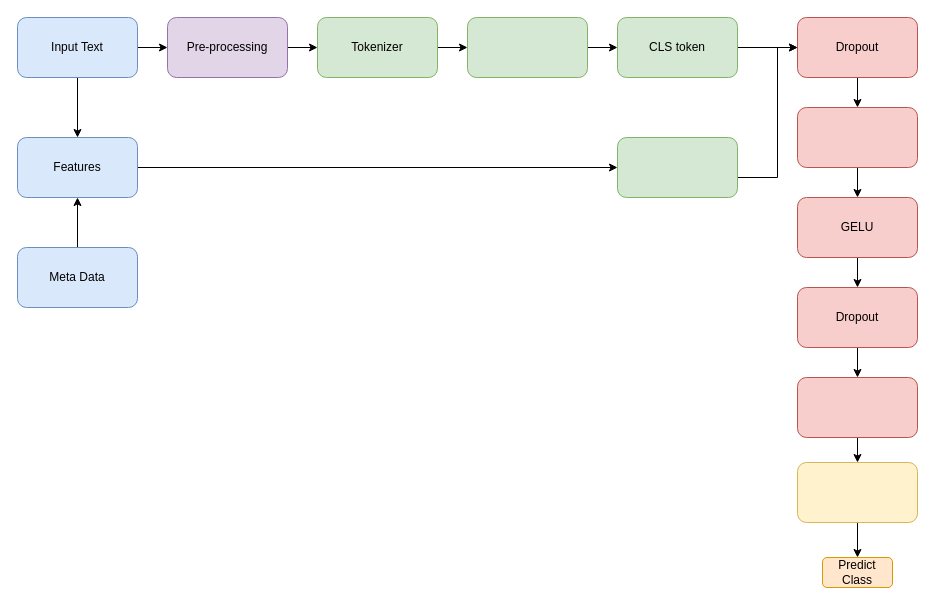
Some shapes in this 935 by 605 pixel diagram are drawn without their labels. Each missing label, with the box of its shape:
Classidier: (796, 376, 918, 438)
Embedding: (616, 136, 738, 198)
Fully Connected Dense: (796, 106, 918, 168)
Pre-trained model: (466, 16, 588, 78)
SoftMax: (796, 462, 918, 522)
